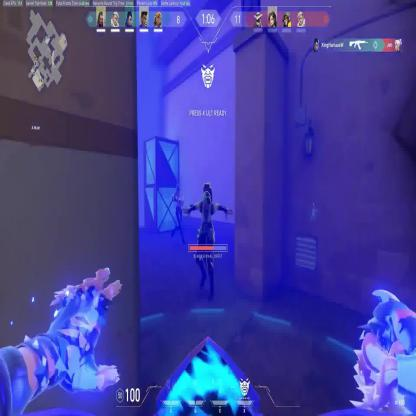enemy: (182, 182, 233, 302), (170, 182, 186, 244)
enemy_head: (202, 182, 212, 204), (176, 183, 180, 192)
